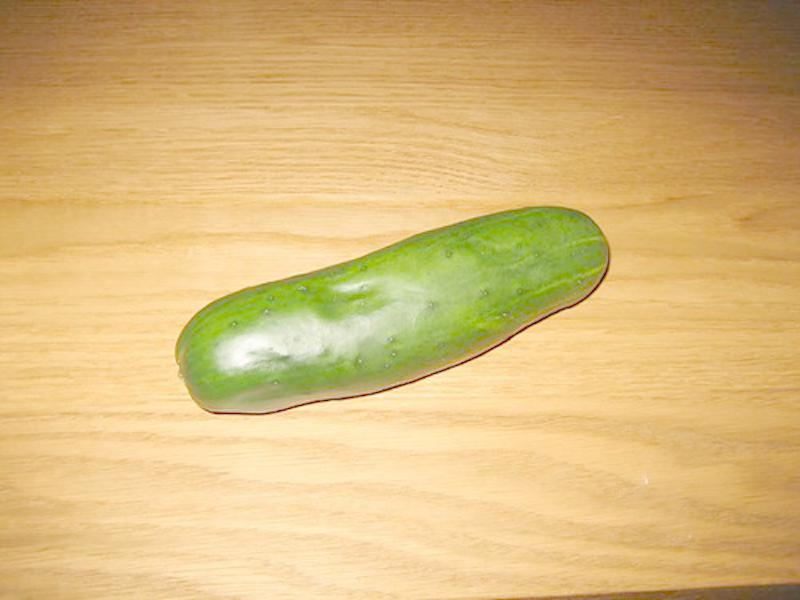Cucumber: (181, 208, 611, 414)
